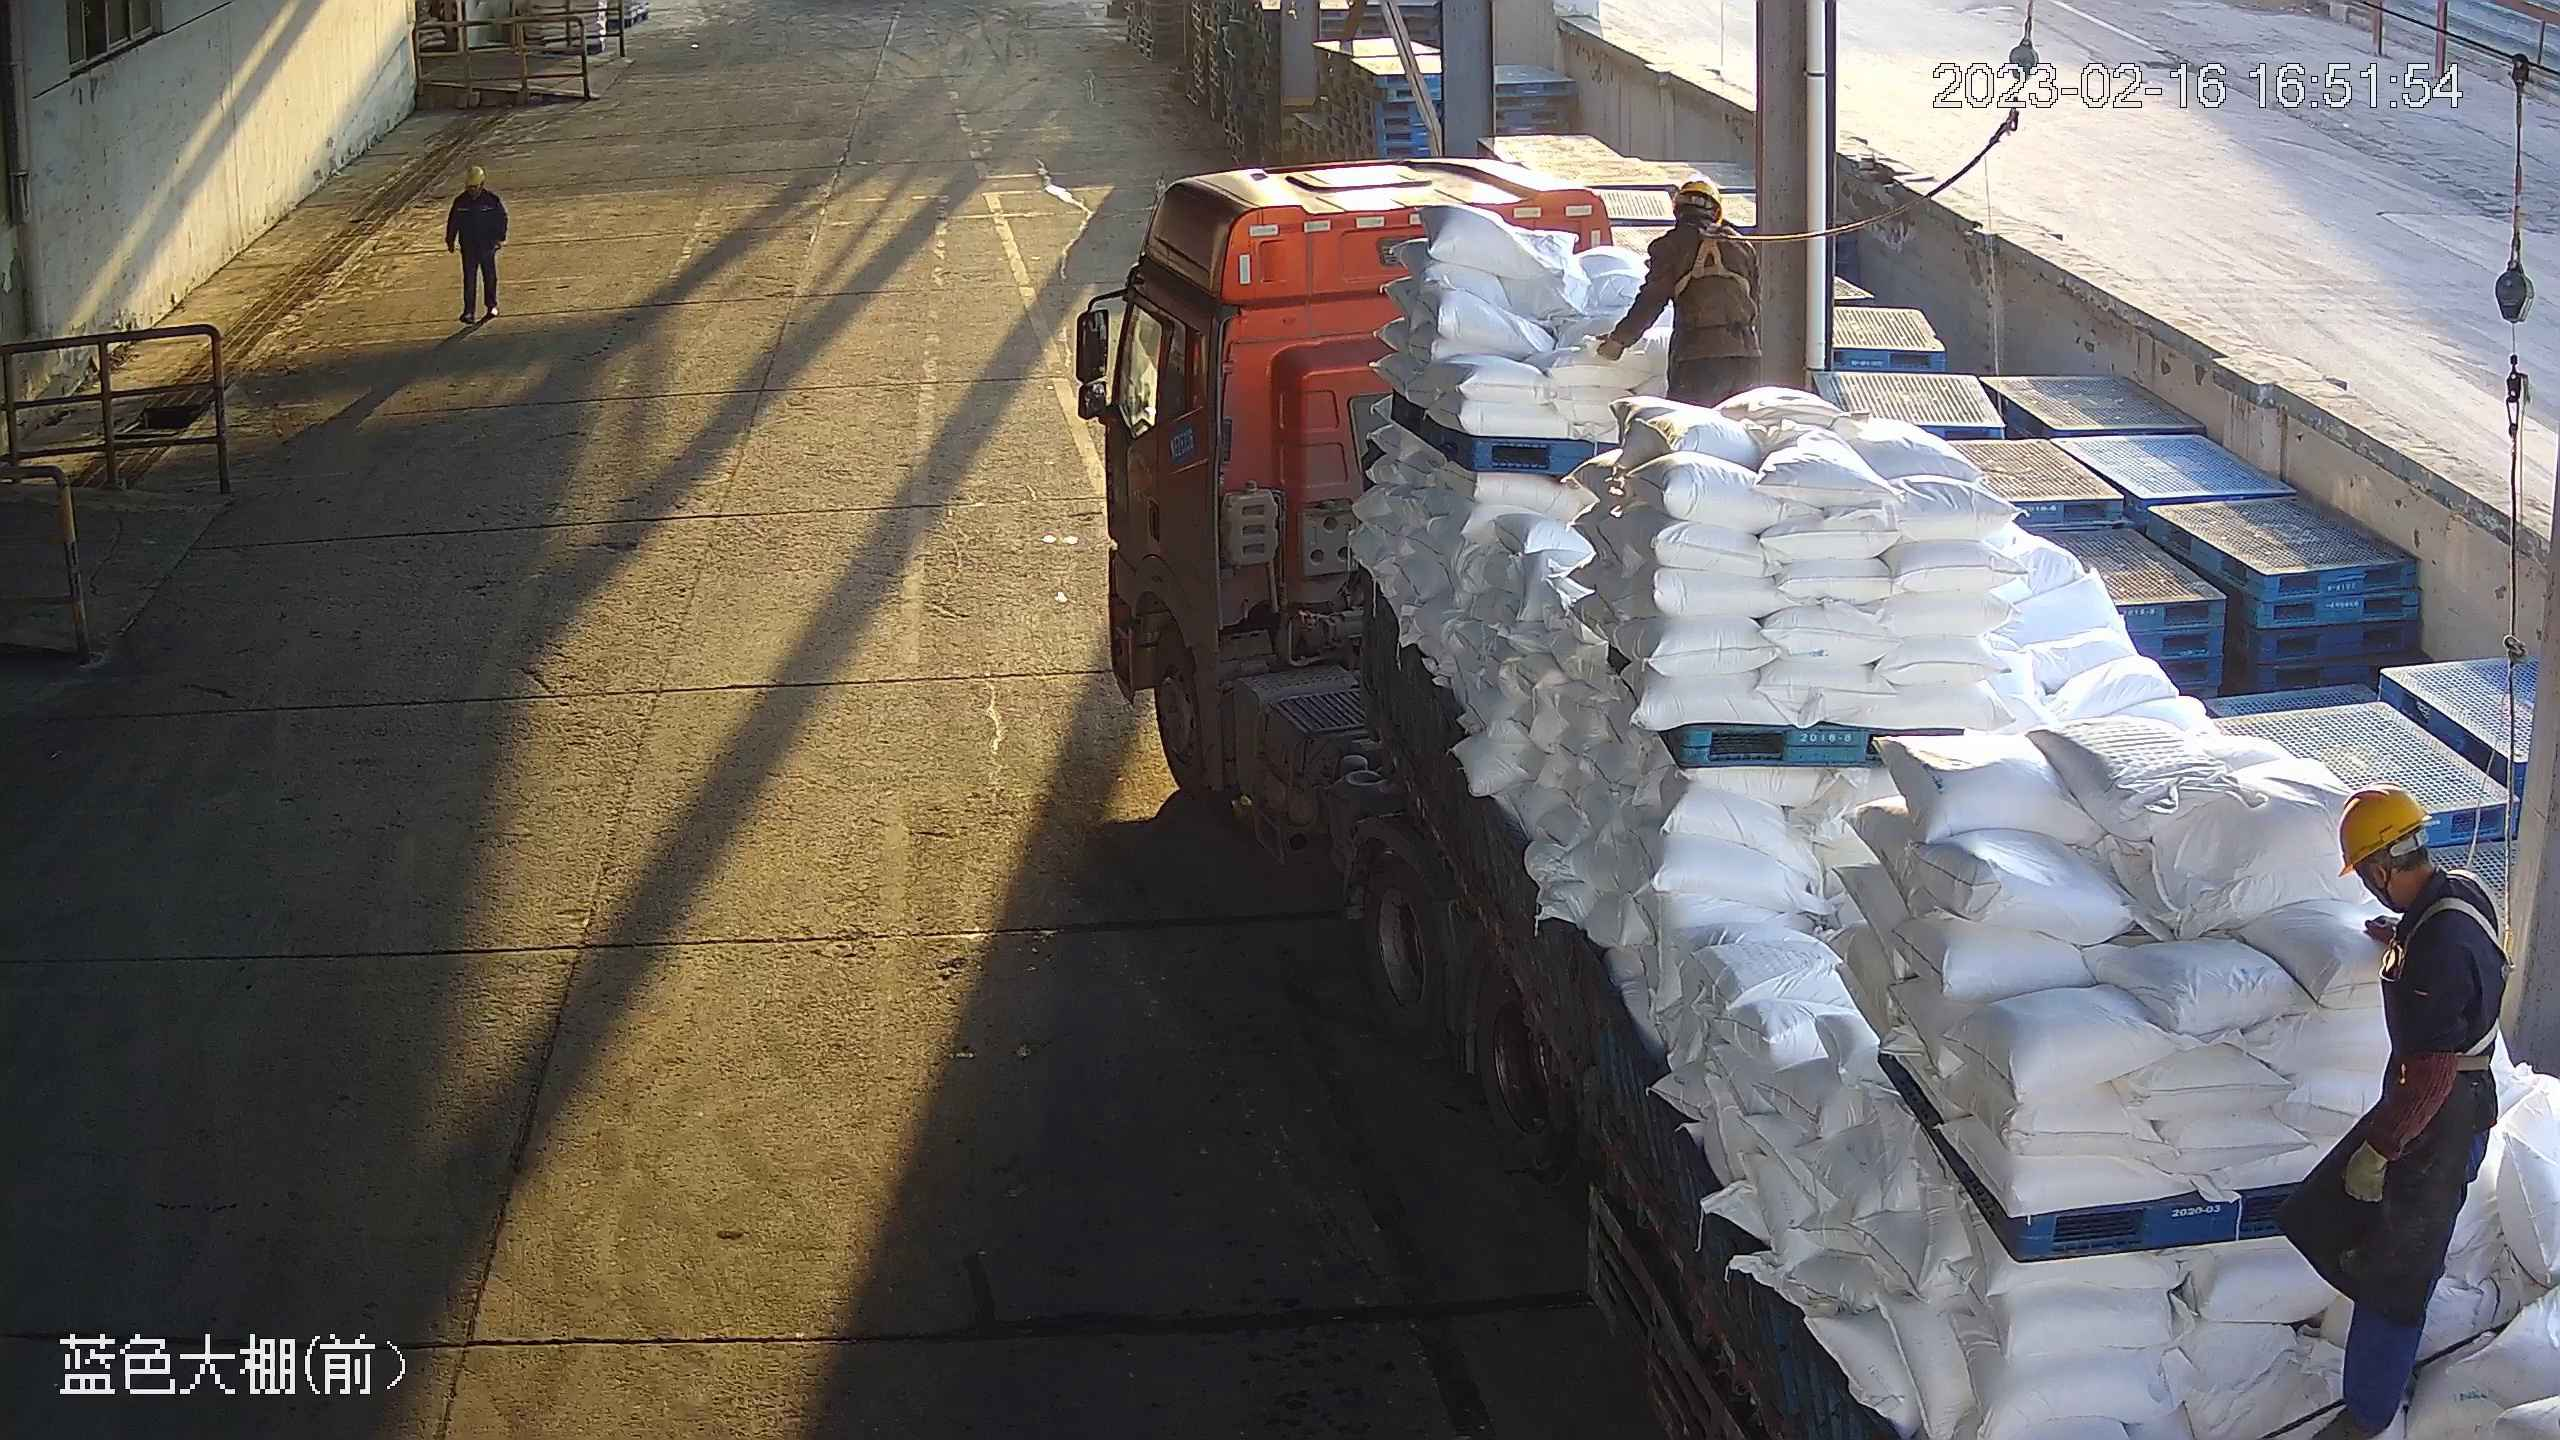belt: (2396, 871, 2509, 1058), (1662, 218, 1766, 294)
head: (2316, 786, 2505, 994), (1625, 171, 1761, 292), (448, 170, 518, 220)
helmet: (2314, 781, 2438, 871), (1677, 173, 1735, 225), (455, 162, 488, 186)
people: (2277, 788, 2523, 1440), (1596, 168, 1768, 420), (442, 166, 523, 318)
truck: (1066, 162, 2560, 1440)
